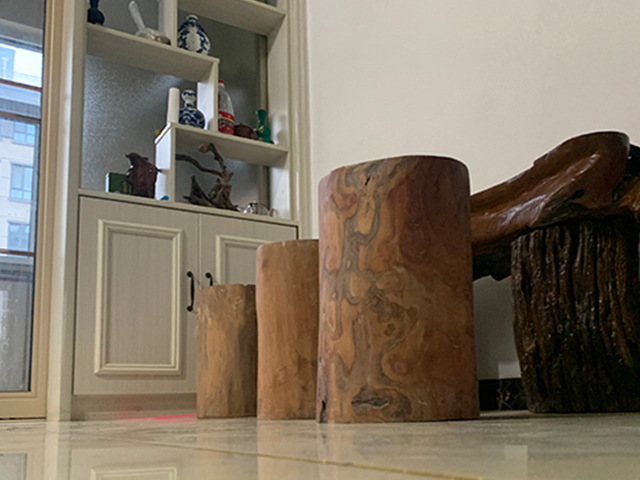cabinet: (52, 182, 309, 422)
stool: (316, 154, 479, 423), (256, 238, 320, 423), (193, 283, 256, 420)
